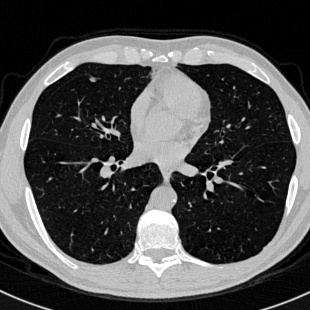PN: (91, 77, 95, 81)
